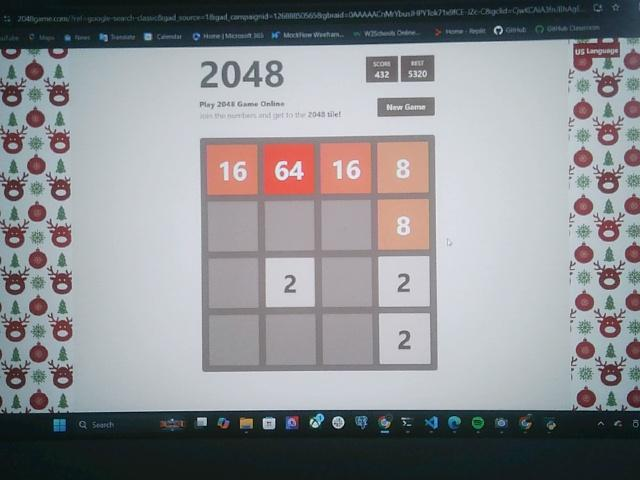board: (202, 137, 436, 369)
tile: (378, 312, 431, 365), (378, 141, 431, 193), (378, 198, 431, 250), (263, 143, 315, 195), (378, 255, 430, 307), (208, 145, 258, 196), (321, 143, 371, 194), (266, 258, 316, 308)
